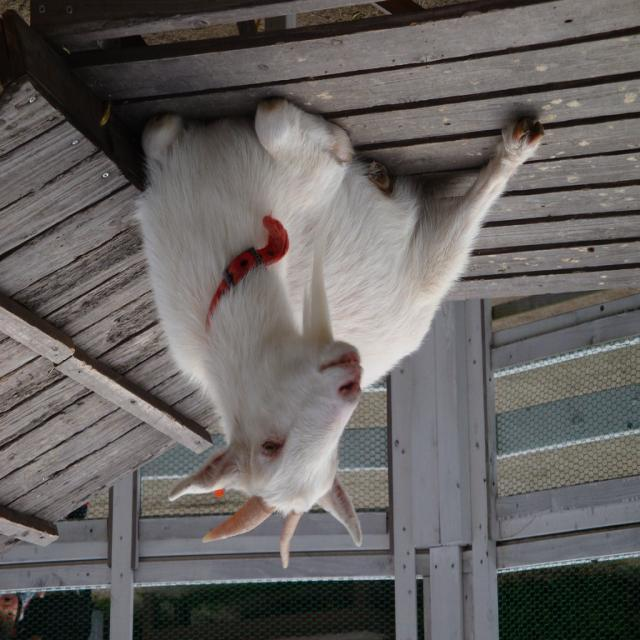Goat: (133, 97, 546, 571)
